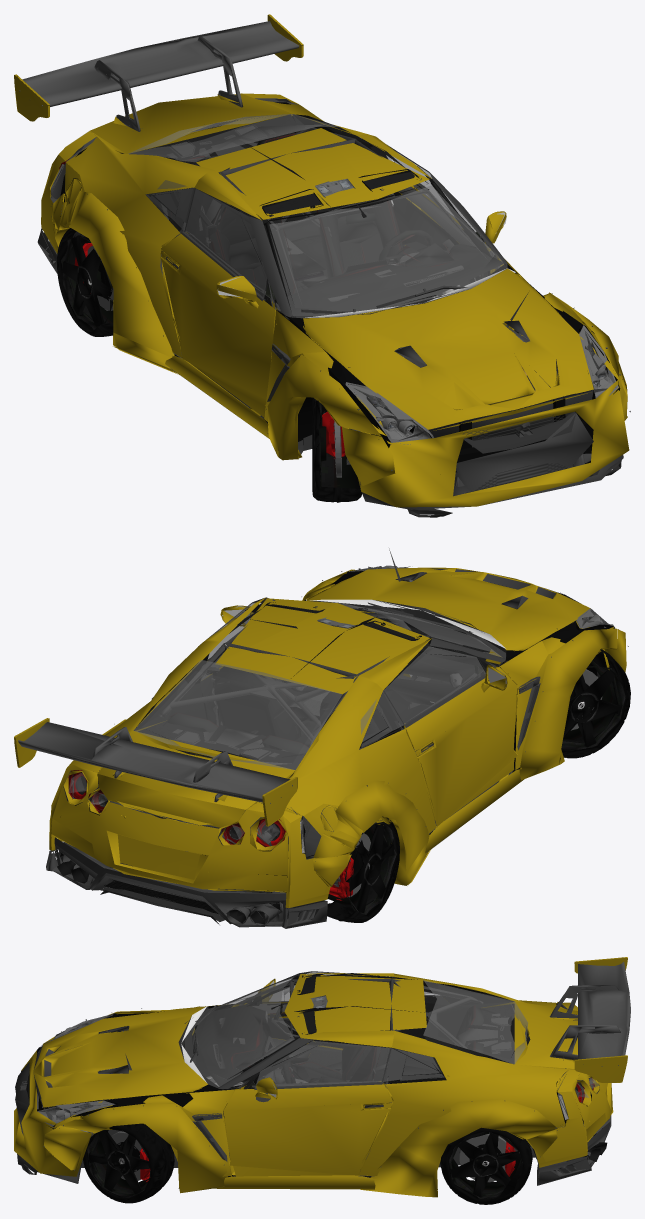
File: gtr35.glb
3 views of the same model, one above another, from view 1: azimuth 30°, elevation 25°; view 2: azimuth 150°, elevation 25°; view 3: azimuth 270°, elevation 25° (orthographic). The views are drawn at different scales.
Parts seen in each view (by area): view 1: r35_turbos_r35_paint_0, r35_bumper_R_2017_r35_paint_0, r35_windshield_r35_glass_0, r35_parkingbrake_2017_r35_leather_0, r35_bumper_F_specv_r35_misc_0, r35_fenderflare_RR_Meo_turbo_Gray_0, r35_wheel_05a_20x11_r35_wheel_05a_0, r35_bumperbar_F_r35_chassis_0, r35_seats_R_2017_r35_cloth_0, r35_headlight_R_2012_r35_lights_0, r35_signalstalk_2017_r35_plastic_0, r35_dash_2017_r35_cf_0 (+4 smaller); view 2: r35_turbos_r35_paint_0, r35_bumper_R_2017_r35_paint_0, r35_windshield_r35_glass_0, r35_parkingbrake_2017_r35_leather_0, r35_fenderflare_RR_Meo_turbo_Gray_0, r35_wheel_05a_20x11_r35_wheel_05a_0, r35_bumper_F_specv_r35_misc_0, r35_bumper_R_2017_r35_signal_R_2017.001_0, r35_bumperbar_F_r35_chassis_0, r35_seats_R_2017_r35_cloth_0, r35_signalstalk_2017_r35_plastic_0, r35_taillight_L_2017_r35_taillight_2017_0 (+9 smaller); view 3: r35_turbos_r35_paint_0, r35_bumper_R_2017_r35_paint_0, r35_windshield_r35_glass_0, r35_parkingbrake_2017_r35_leather_0, r35_wheel_05a_20x11_r35_wheel_05a_0, r35_fenderflare_RR_Meo_turbo_Gray_0, r35_bumperbar_F_r35_chassis_0, r35_bumper_F_specv_r35_misc_0, r35_seats_R_2017_r35_cloth_0, r35_signalstalk_2017_r35_plastic_0, r35_bumper_R_2017_r35_signal_R_2017.001_0, r35_signalstalk_r35_interior_0 (+9 smaller).
Boxes of the visible parts, <box> form: r35_turbos_r35_paint_0: <box>65,93,629,507</box>; r35_bumper_R_2017_r35_paint_0: <box>14,14,627,485</box>; r35_windshield_r35_glass_0: <box>128,114,613,439</box>; r35_parkingbrake_2017_r35_leather_0: <box>153,114,503,335</box>; r35_bumper_F_specv_r35_misc_0: <box>50,98,623,509</box>; r35_fenderflare_RR_Meo_turbo_Gray_0: <box>19,21,630,493</box>; r35_wheel_05a_20x11_r35_wheel_05a_0: <box>58,235,360,492</box>; r35_bumperbar_F_r35_chassis_0: <box>57,102,620,502</box>; r35_seats_R_2017_r35_cloth_0: <box>130,114,428,277</box>; r35_headlight_R_2012_r35_lights_0: <box>345,325,618,444</box>; r35_signalstalk_2017_r35_plastic_0: <box>156,125,500,406</box>; r35_dash_2017_r35_cf_0: <box>302,276,621,517</box>; r35_turbos_r35_paint_0: <box>97,578,613,853</box>; r35_bumper_R_2017_r35_paint_0: <box>14,567,626,907</box>; r35_windshield_r35_glass_0: <box>133,601,502,769</box>; r35_parkingbrake_2017_r35_leather_0: <box>134,602,490,765</box>; r35_fenderflare_RR_Meo_turbo_Gray_0: <box>18,568,628,885</box>; r35_wheel_05a_20x11_r35_wheel_05a_0: <box>327,660,627,916</box>; r35_bumper_F_specv_r35_misc_0: <box>112,597,608,859</box>; r35_bumper_R_2017_r35_signal_R_2017.001_0: <box>46,767,327,928</box>; r35_bumperbar_F_r35_chassis_0: <box>75,570,630,922</box>; r35_seats_R_2017_r35_cloth_0: <box>138,602,421,769</box>; r35_signalstalk_2017_r35_plastic_0: <box>172,621,498,825</box>; r35_taillight_L_2017_r35_taillight_2017_0: <box>68,770,285,848</box>; r35_turbos_r35_paint_0: <box>14,973,590,1189</box>; r35_bumper_R_2017_r35_paint_0: <box>33,957,627,1197</box>; r35_windshield_r35_glass_0: <box>52,972,527,1123</box>; r35_parkingbrake_2017_r35_leather_0: <box>193,976,513,1117</box>; r35_wheel_05a_20x11_r35_wheel_05a_0: <box>86,1127,524,1201</box>; r35_fenderflare_RR_Meo_turbo_Gray_0: <box>43,962,630,1184</box>; r35_bumperbar_F_r35_chassis_0: <box>26,1003,591,1204</box>; r35_bumper_F_specv_r35_misc_0: <box>15,971,567,1189</box>; r35_seats_R_2017_r35_cloth_0: <box>294,973,530,1080</box>; r35_signalstalk_2017_r35_plastic_0: <box>213,998,511,1102</box>; r35_bumper_R_2017_r35_signal_R_2017.001_0: <box>534,1002,611,1185</box>; r35_signalstalk_r35_interior_0: <box>192,973,385,1085</box>.
Bounding box in the file's own units: 2.26 × 1.34 × 4.82.
Materials: 49 (19 with a texture image).
